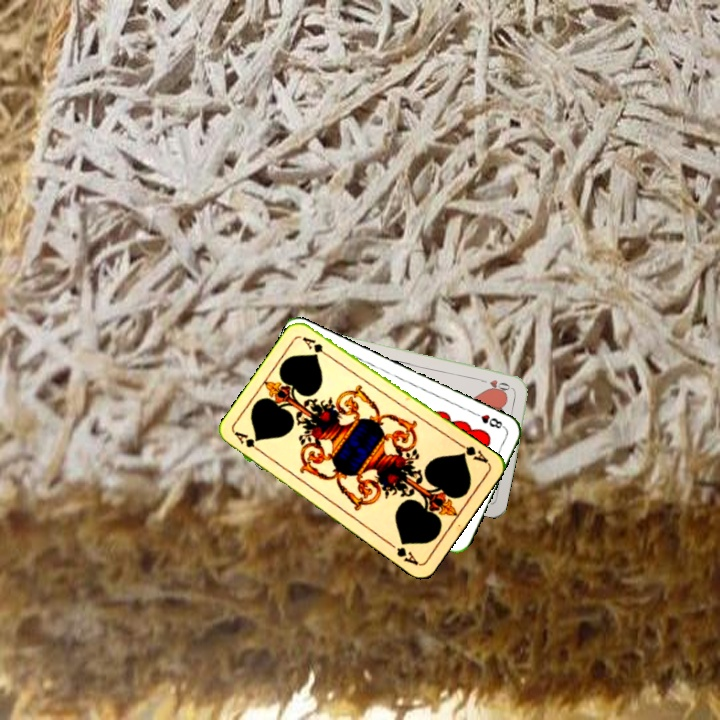GA: (231, 427, 267, 457), (454, 439, 491, 466)
H8: (469, 408, 507, 431)
HO: (475, 375, 515, 393)
